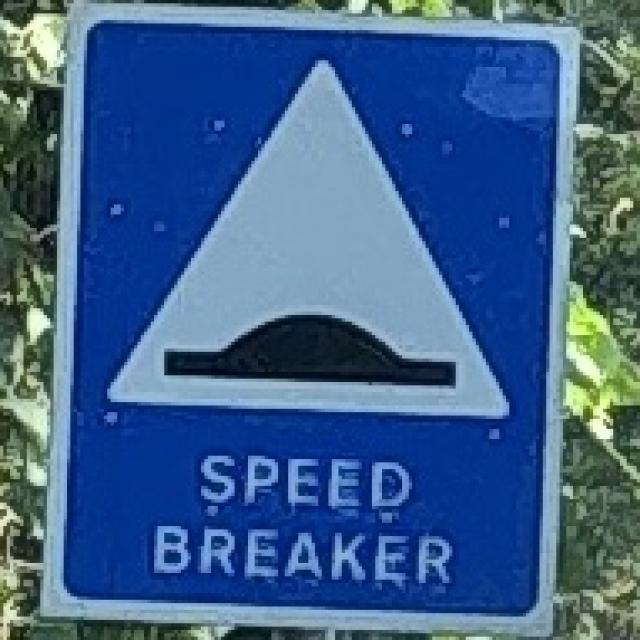HUMP_OR_ROUGH_ROAD: (37, 6, 587, 640)
